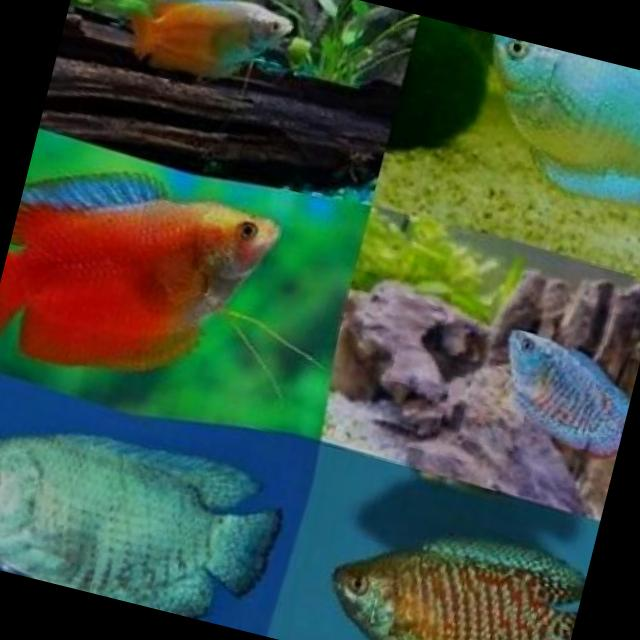Gourami: (0, 143, 286, 410), (0, 385, 298, 632), (307, 495, 588, 640), (454, 32, 640, 226), (482, 317, 640, 464), (118, 0, 306, 104)
